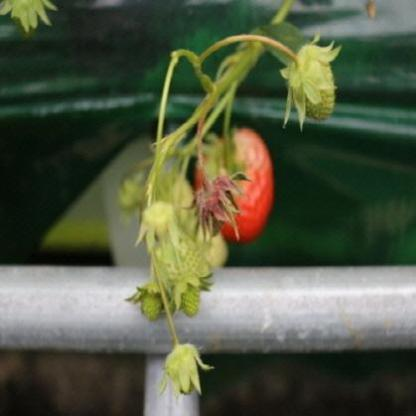Strawberry_Gray_Mold: (182, 172, 255, 246)
